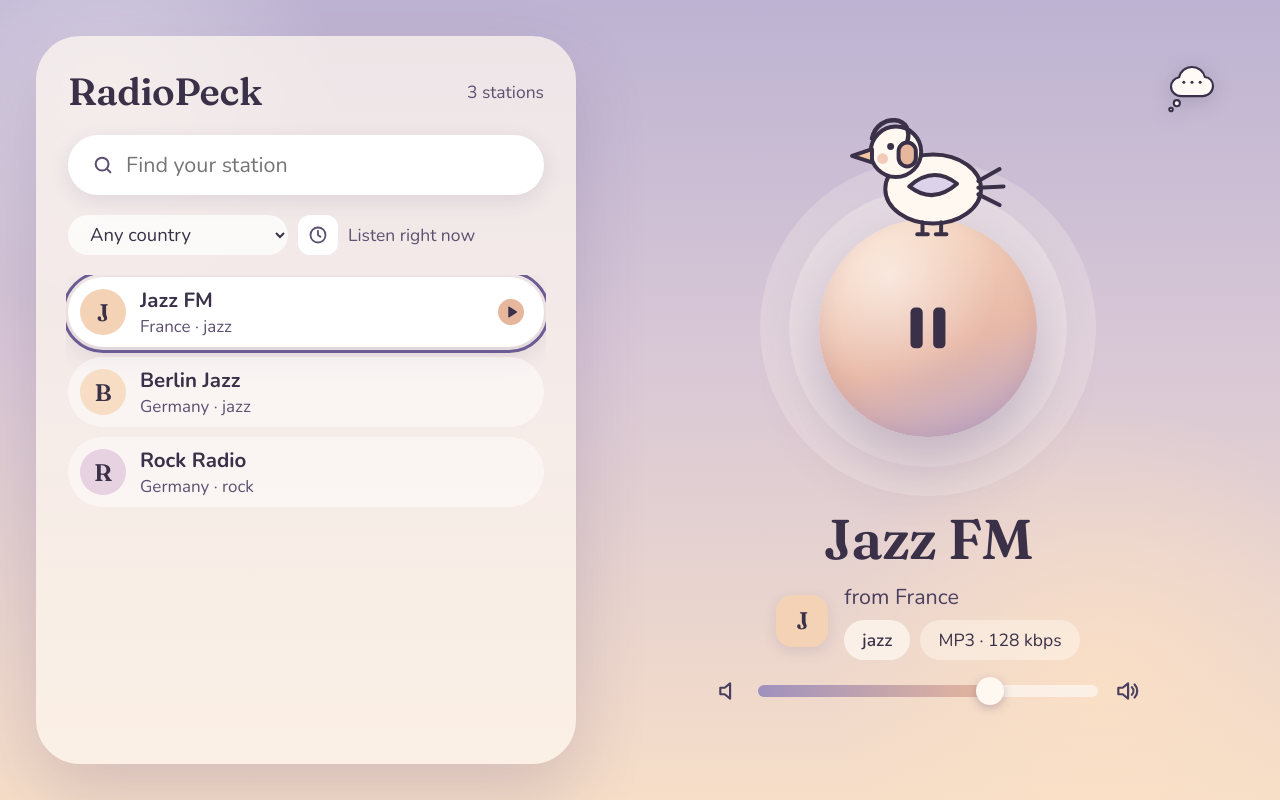
Test: App: recently played › lists a station after it started playing
Earlier steps of the test are not shown.
Click the button named "Recently played": point(318, 235) [298,215,338,255]
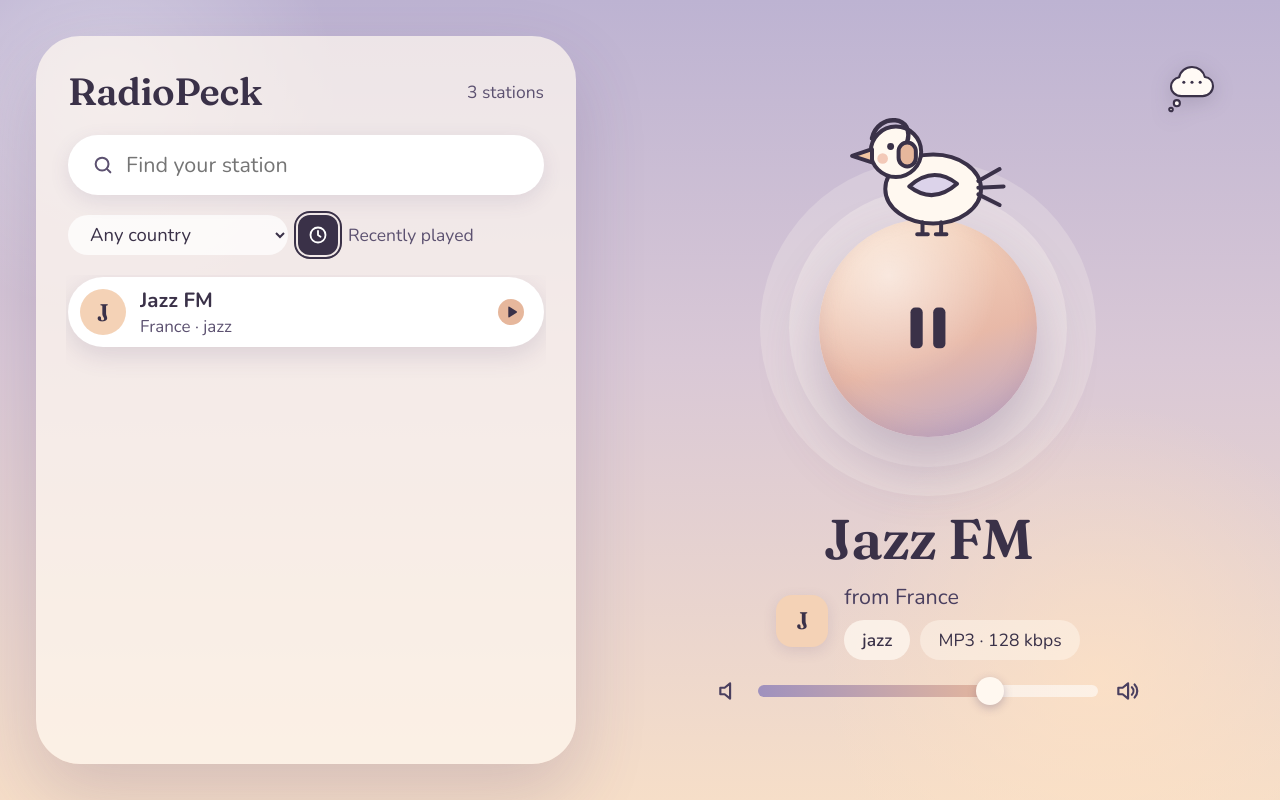
Check: the text "Jazz FM" is shown, box [140,286,213,314]
Check: the button "Rock Radio" is gone
